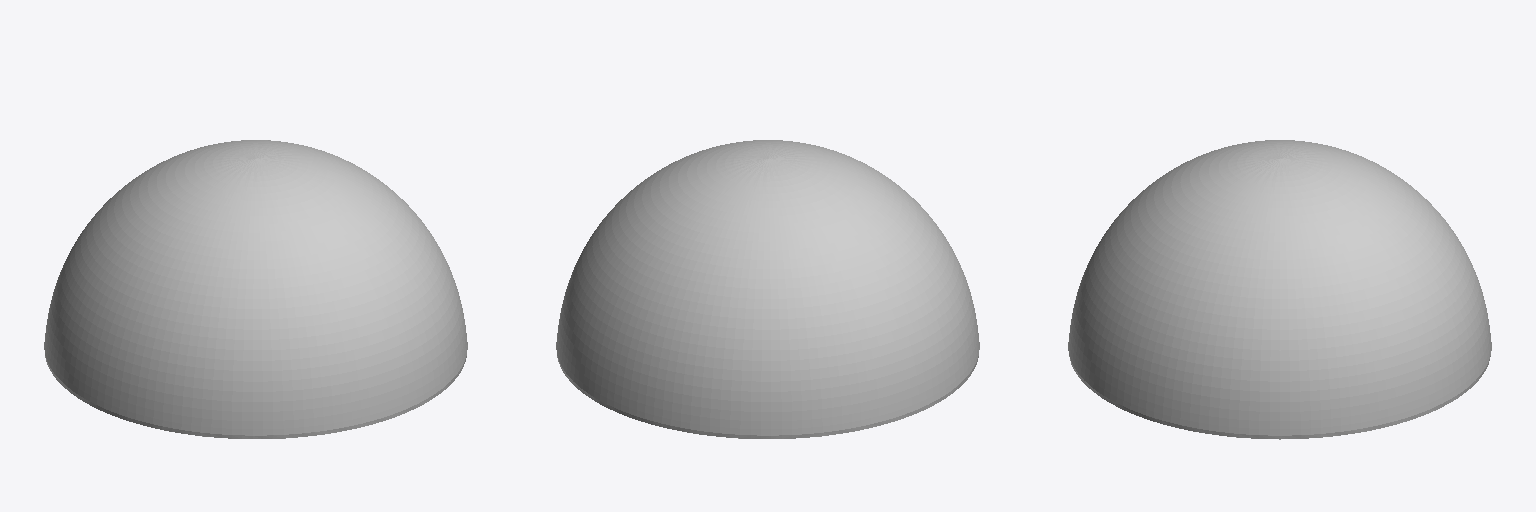
File: the_dome.obj
3 views of the same model, side by side, from view 1: azimuth 30°, elevation 25°; view 2: azimuth 150°, elevation 25°; view 3: azimuth 270°, elevation 25° (orthographic).
Parts seen in each view (by area): view 1: Sphere; view 2: Sphere; view 3: Sphere.
Part boxes in pixels (left/top/right/bottom): Sphere: left=44, top=140, right=467, bottom=438; Sphere: left=556, top=140, right=979, bottom=438; Sphere: left=1068, top=140, right=1491, bottom=439.
Bounding box in the file's own units: 1.98 × 1 × 1.98.